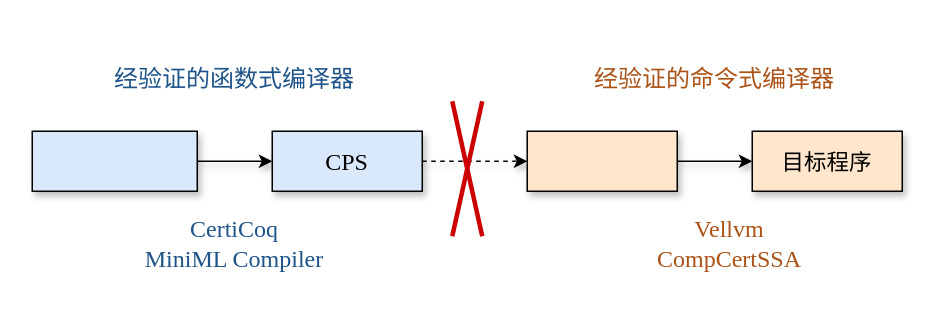
Some shapes in this 938 by 321 pixel diagram are drawn without their labels. The shapes that lost their labels are listed below. From the top down, each one's centre as x and y in pixels, then its label:
At (115,163): "函数式源程序".
At (603,163): "SSA".
